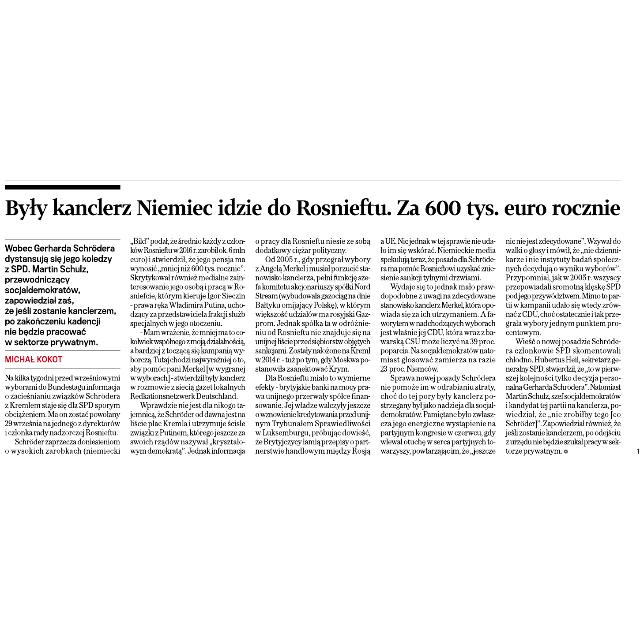author: (2, 352, 66, 368)
body: (126, 235, 250, 460), (502, 233, 626, 457), (252, 235, 374, 457), (378, 234, 498, 456), (3, 370, 123, 458)
lead: (3, 241, 118, 349)
title: (3, 190, 629, 223)
